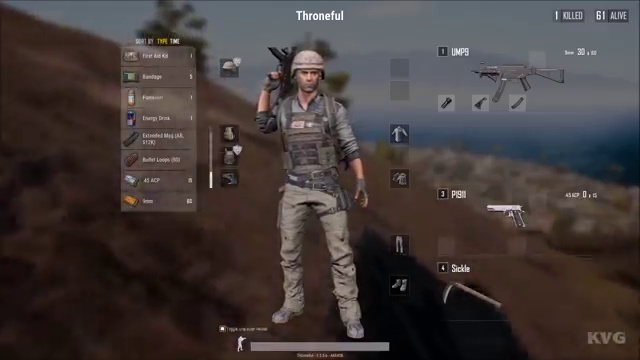Player: (259, 44, 378, 325)
